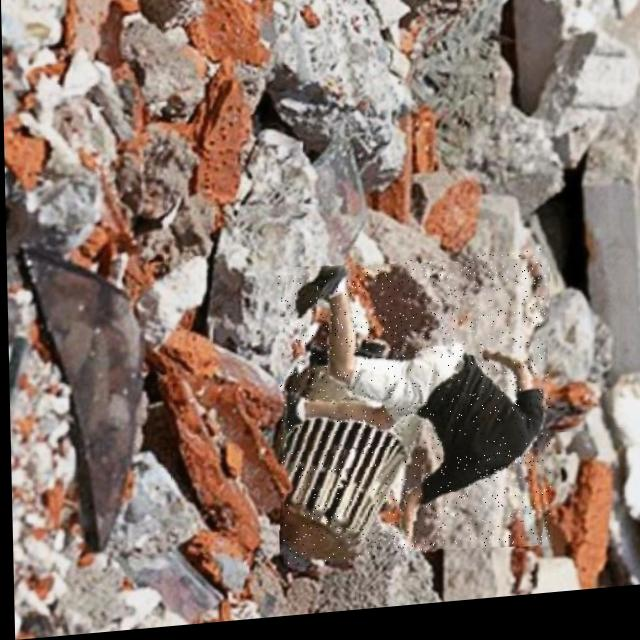Person in Rubble: (275, 258, 549, 570)
